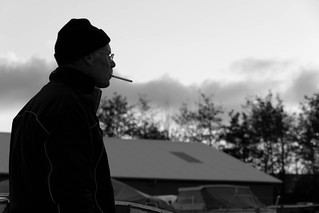cigarette: (108, 72, 135, 85)
